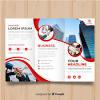paper: (4, 17, 95, 84)
